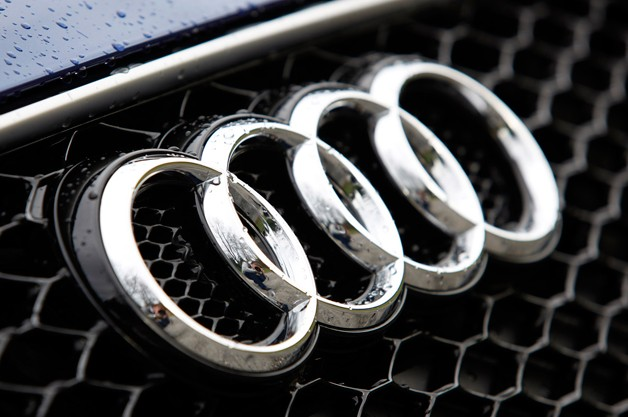audi: (60, 47, 574, 382)
